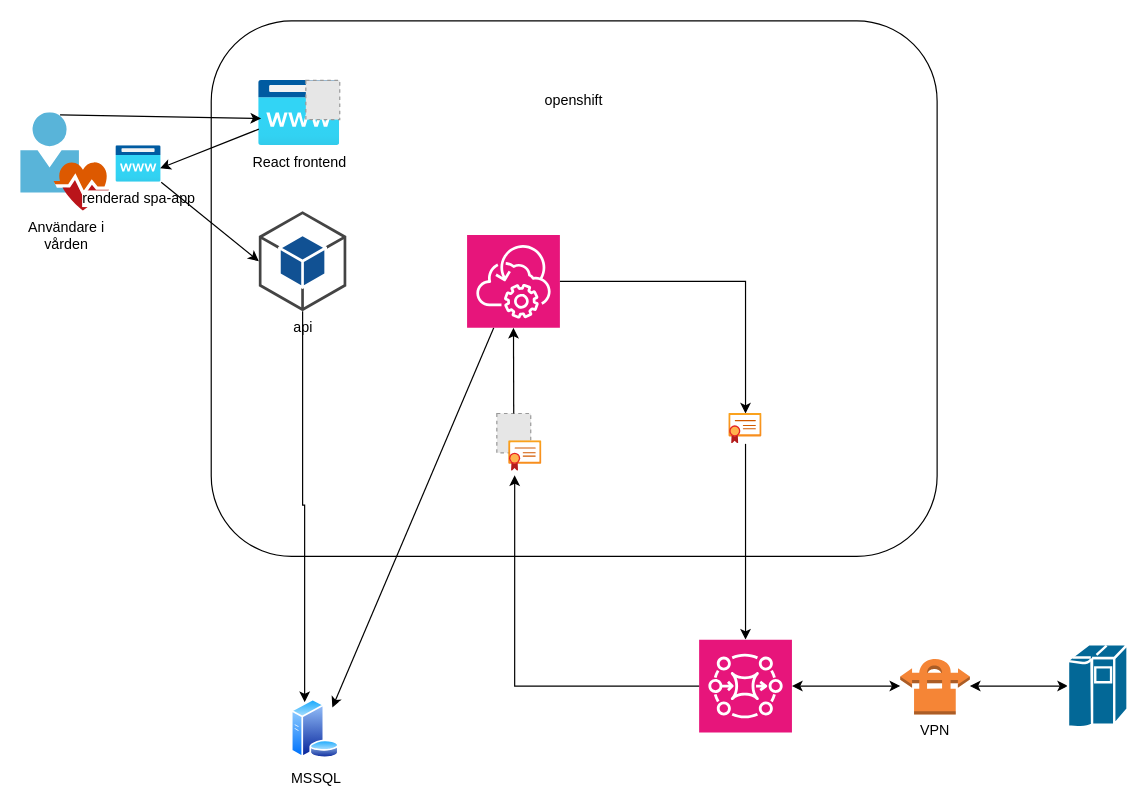
Some shapes in this 1148 by 808 pixel diagram are drawn without their labels. Grey dashed boxes stand in for pictures. Here are the shapes that lost their labels. From the top down, the centre of each, then its label:
At (513,281): "Import Server".
At (745,428): "klientcert".
At (745,685): "Integrationsplattform HC".
At (1097,685): "Cosmic".
